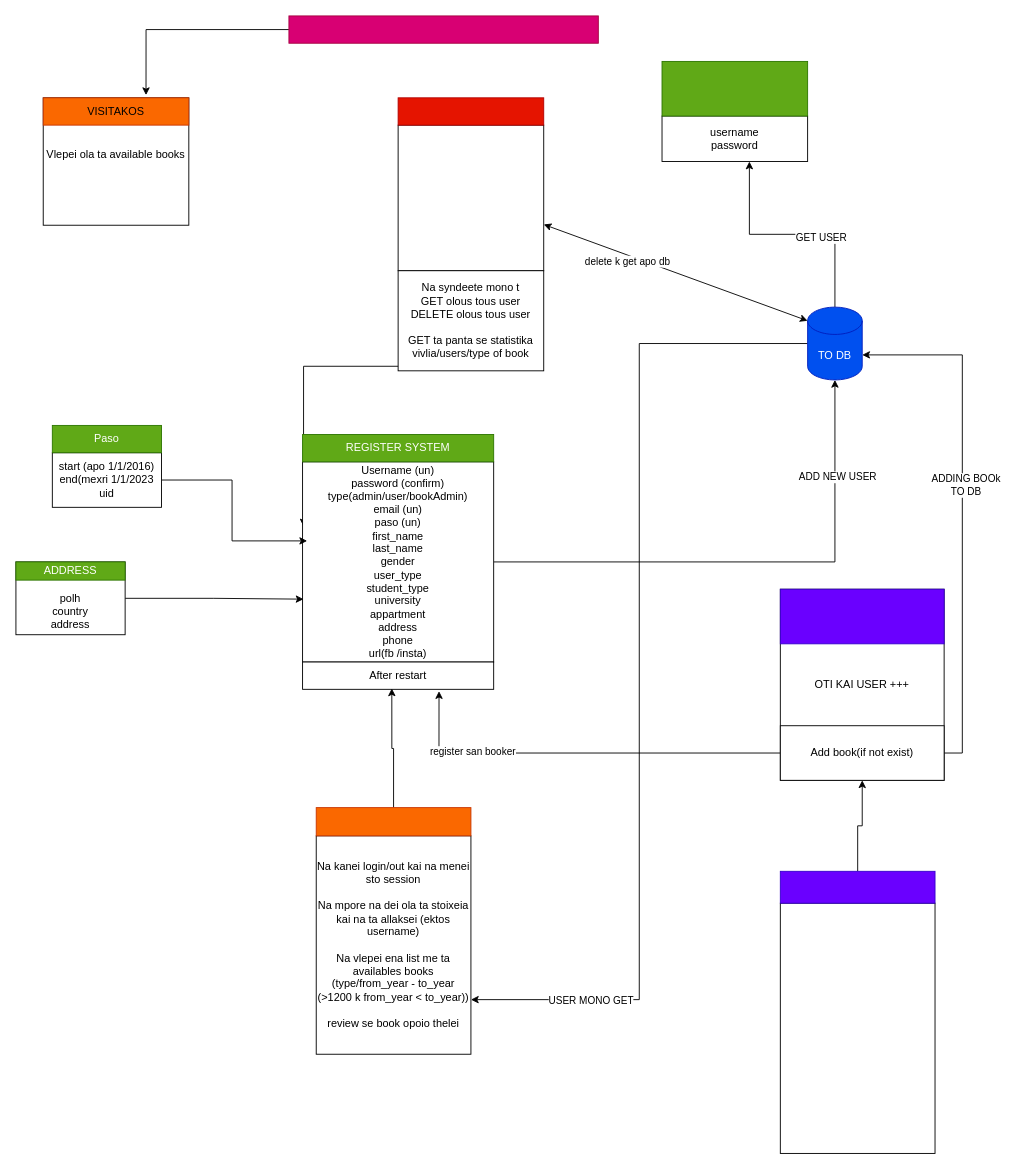
Image size: 1016x1169. Some labels were removed from this diagram. Each missing label, with the centre of its shape:
"ADMIN" goes at [470,111].
"BOOK" goes at [857,886].
"id username password" goes at [470,197].
"ISBN(un) Title Writer Type Publish release Pages number Photo bookURL reviews[ ]" goes at [857,1027].
"LIBRARY ADMIN" goes at [861,616].
"LOGIN SYSTEM" goes at [734,88].
"LOGINED USER" goes at [393,821].
"OLA TA ACTIONS THELOUN LOGIN PRWTA EKTOS APO" goes at [443,29].
